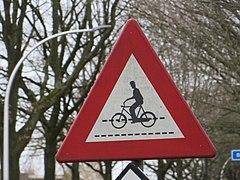Cycle Crossing: (91, 39, 186, 147)
